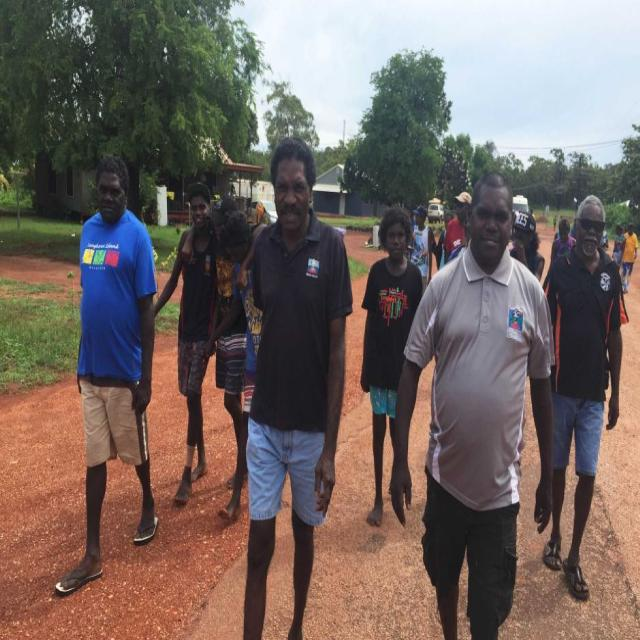body: (387, 169, 559, 639), (238, 129, 352, 639), (53, 150, 160, 601), (541, 191, 625, 602), (180, 194, 268, 492), (357, 195, 425, 533), (153, 181, 221, 504), (211, 209, 272, 523), (408, 205, 438, 300), (508, 208, 545, 284), (444, 191, 473, 260), (548, 216, 577, 272), (619, 219, 639, 295), (554, 217, 574, 290), (434, 212, 455, 272), (611, 222, 627, 272), (595, 218, 609, 272), (226, 173, 240, 200), (570, 215, 581, 239), (552, 212, 558, 231)
